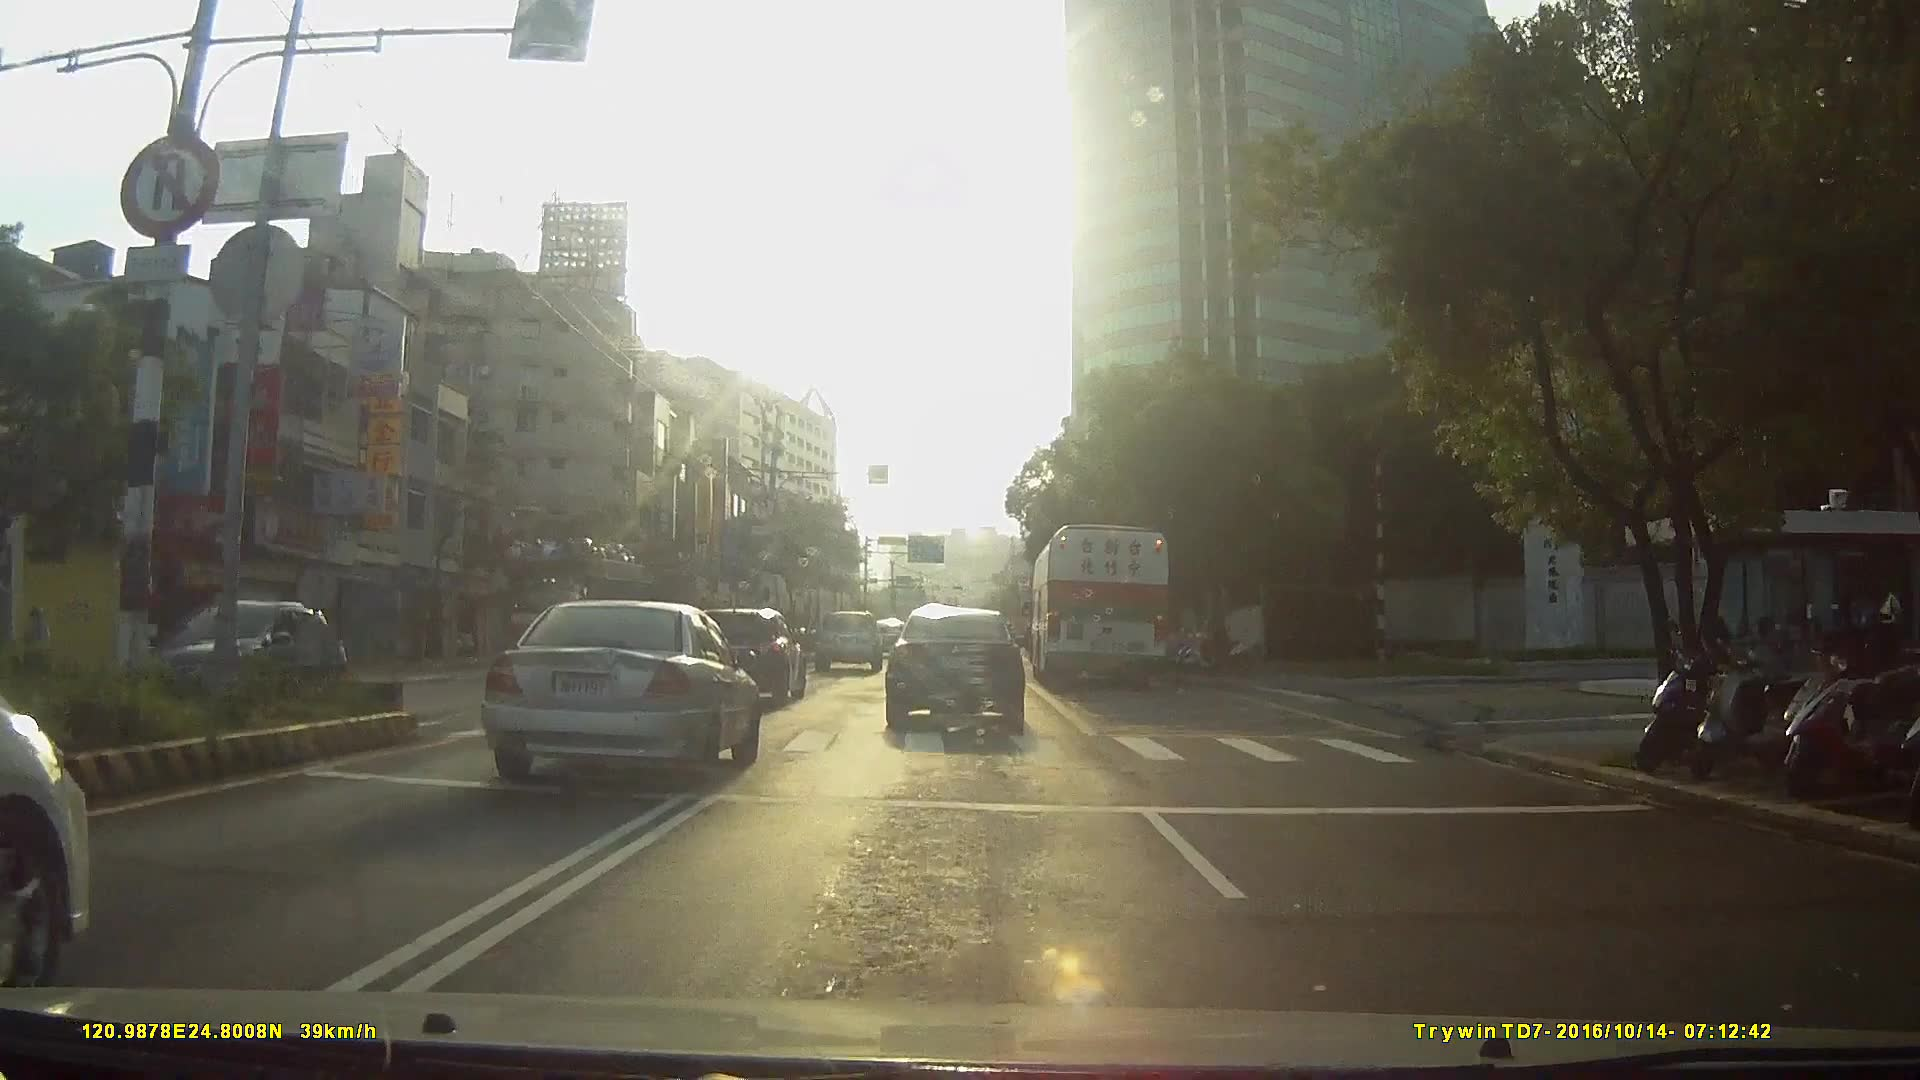vehicle: (472, 596, 760, 791), (124, 592, 357, 712), (1027, 518, 1171, 690), (882, 601, 1025, 733), (686, 607, 804, 707), (814, 605, 882, 673)
